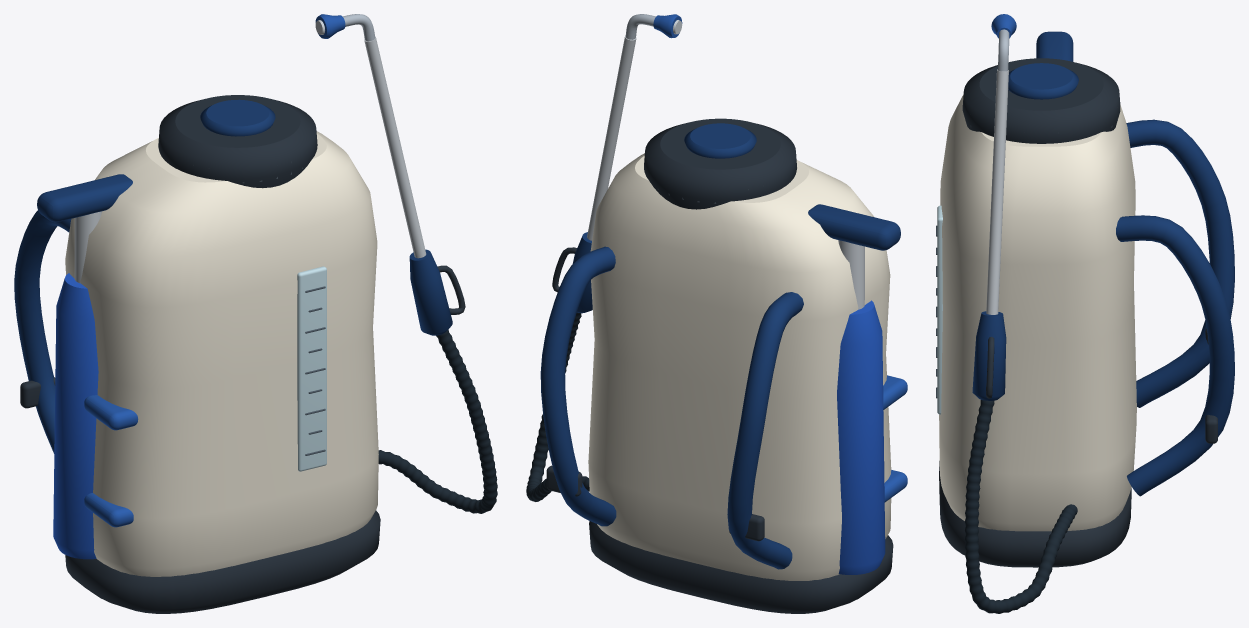
Rendered from sprayer.glb.
3 renders of one model, left to right at view 1: azimuth 30°, elevation 25°; view 2: azimuth 150°, elevation 25°; view 3: azimuth 270°, elevation 25°, orthographic. The views are drawn at different scales.
Parts seen in each view (by area): view 1: Assembly • Warm ivory, Assembly • Graphite, Assembly • Deep blue, Assembly • Cobalt, Assembly • Capacity plastic, Assembly • Carbon, Assembly • Nickel, Assembly • Molded blue; view 2: Assembly • Warm ivory, Assembly • Deep blue, Assembly • Graphite, Assembly • Cobalt, Assembly • Nickel, Assembly • Molded blue, Assembly • Carbon; view 3: Assembly • Warm ivory, Assembly • Deep blue, Assembly • Graphite, Assembly • Carbon, Assembly • Nickel, Assembly • Capacity plastic, Assembly • Steel, Assembly • Molded blue.
Boxes of the visible parts, x1,y1,x2,y2 form: Assembly • Warm ivory: (65, 131, 378, 576); Assembly • Graphite: (20, 95, 465, 613); Assembly • Deep blue: (14, 99, 452, 453); Assembly • Cobalt: (53, 273, 98, 559); Assembly • Capacity plastic: (297, 266, 326, 471); Assembly • Carbon: (378, 329, 497, 513); Assembly • Nickel: (74, 20, 426, 283); Assembly • Molded blue: (84, 14, 345, 527); Assembly • Warm ivory: (588, 153, 891, 580); Assembly • Deep blue: (540, 123, 900, 569); Assembly • Graphite: (546, 118, 893, 613); Assembly • Cobalt: (837, 300, 885, 574); Assembly • Nickel: (587, 20, 864, 309); Assembly • Molded blue: (653, 14, 907, 502); Assembly • Carbon: (526, 312, 589, 501); Assembly • Warm ivory: (939, 94, 1136, 531); Assembly • Deep blue: (972, 31, 1234, 496); Assembly • Graphite: (939, 58, 1217, 567); Assembly • Carbon: (964, 400, 1077, 613); Assembly • Nickel: (986, 69, 1008, 314); Assembly • Capacity plastic: (937, 205, 942, 414); Assembly • Steel: (997, 29, 1009, 71); Assembly • Molded blue: (991, 14, 1016, 38).
Size of the model in its own units: 0.7889 by 0.9831 by 0.4955.
